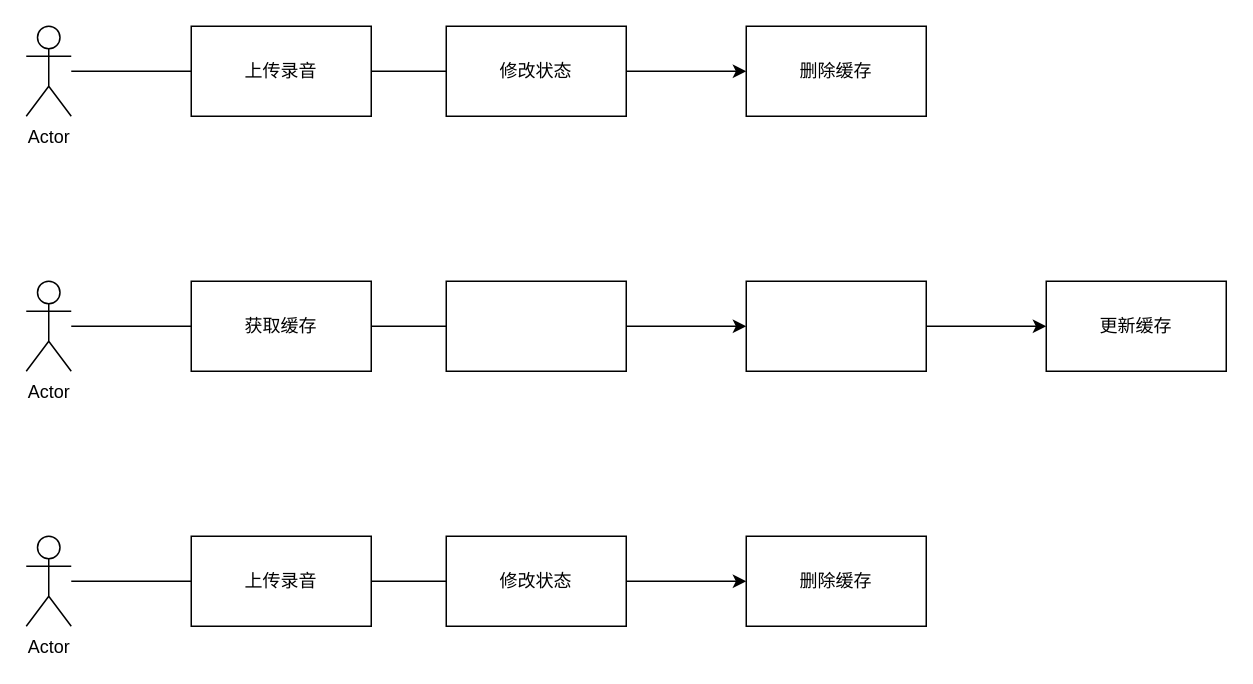
Image size: 1253x684. Some labels were removed from this diagram. Each missing label, with the centre of its shape:
"无缓存" goes at pixel 535 325.
"重新查询数据库构建数据" goes at pixel 835 325.
